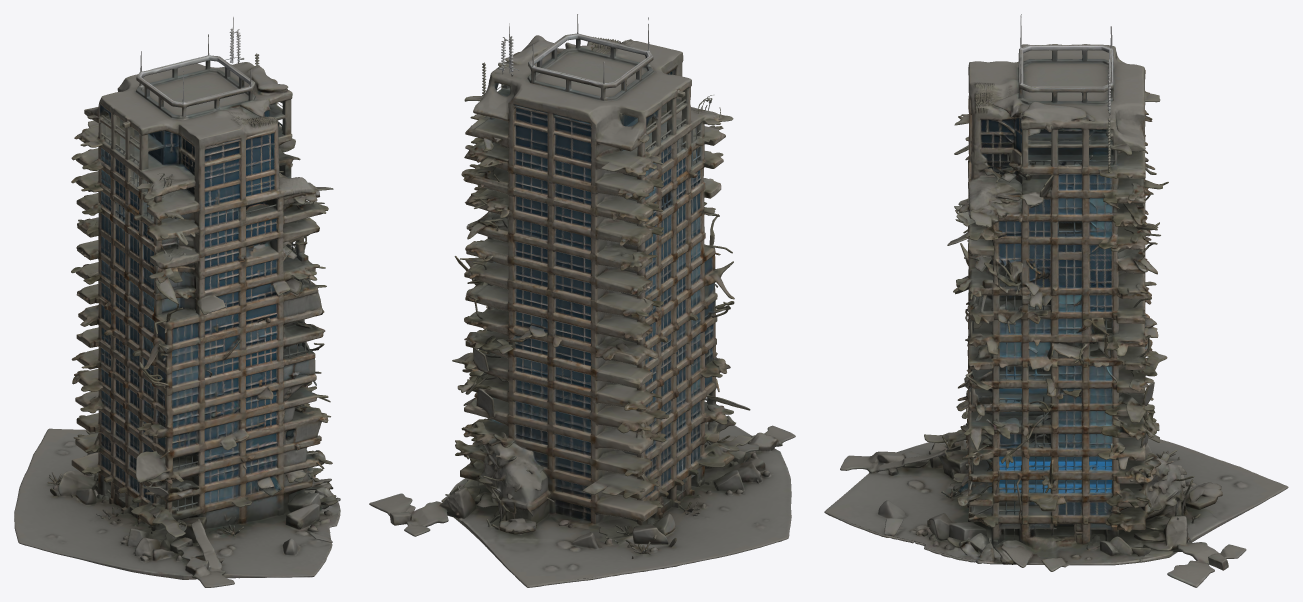
The model's file is tower.glb.
3 views of the same model, side by side, from view 1: azimuth 30°, elevation 25°; view 2: azimuth 150°, elevation 25°; view 3: azimuth 270°, elevation 25° (orthographic). The views are drawn at different scales.
Visible parts, largest first — view 1: tripo_node_6f05476e-2a5b-47a8-acf2-1ef7ae8df4d6; view 2: tripo_node_6f05476e-2a5b-47a8-acf2-1ef7ae8df4d6; view 3: tripo_node_6f05476e-2a5b-47a8-acf2-1ef7ae8df4d6.
Boxes of the visible parts, left/top/right/bottom form: tripo_node_6f05476e-2a5b-47a8-acf2-1ef7ae8df4d6: left=14, top=17, right=340, bottom=587; tripo_node_6f05476e-2a5b-47a8-acf2-1ef7ae8df4d6: left=369, top=14, right=795, bottom=587; tripo_node_6f05476e-2a5b-47a8-acf2-1ef7ae8df4d6: left=824, top=14, right=1288, bottom=587.
Bounding box in the file's own units: 0.7528 × 0.9818 × 0.8529.
Materials: 1 (1 with a texture image).
